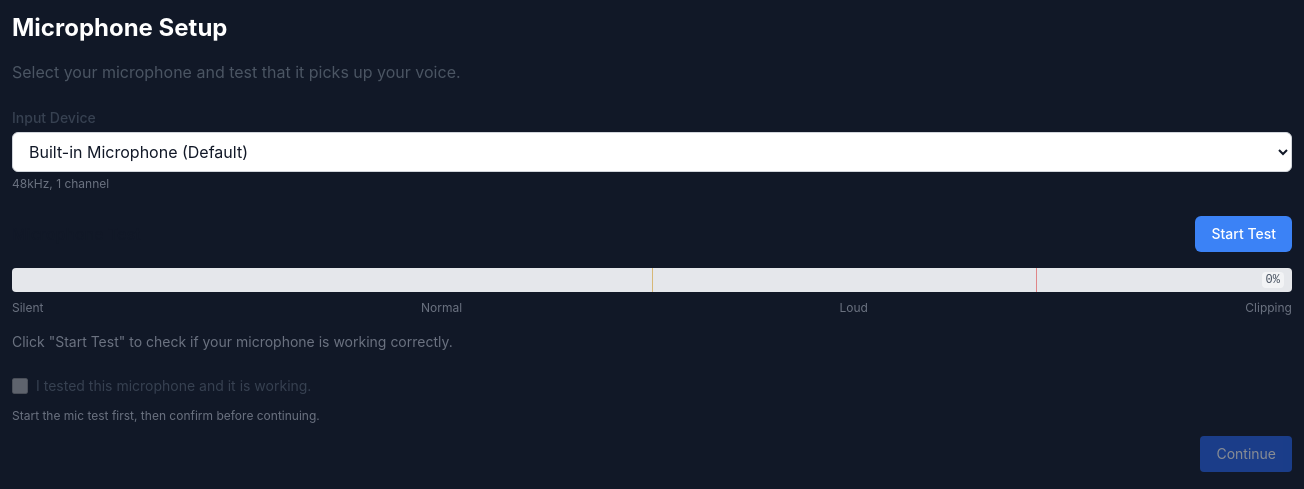
MicSetupStep › continue button is enabled only after test + confirmation
Expected: the button "Continue" is disabled, x1=1200 y1=436 x2=1292 y2=472
Expected: the checkbox is disabled, x1=12 y1=378 x2=28 y2=394
Step 1. Click the button "Start Test" → (1244, 234), box x1=1195 y1=216 x2=1292 y2=252
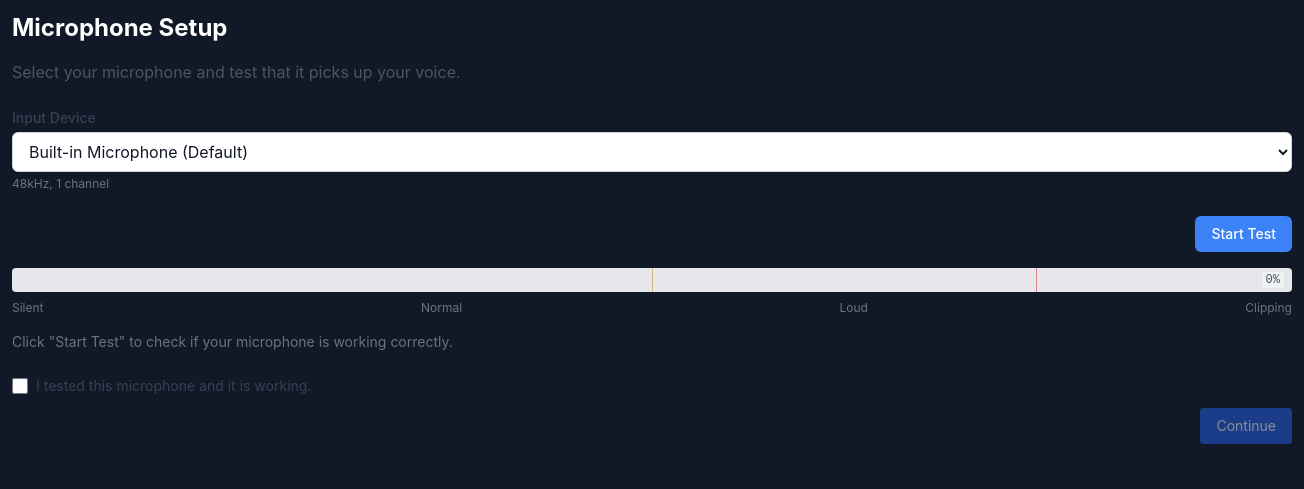
Expected: the button "Continue" is disabled, x1=1200 y1=408 x2=1292 y2=444
Expected: the checkbox is enabled
Step 2. Click the checkbox → (20, 386), box x1=12 y1=378 x2=28 y2=394
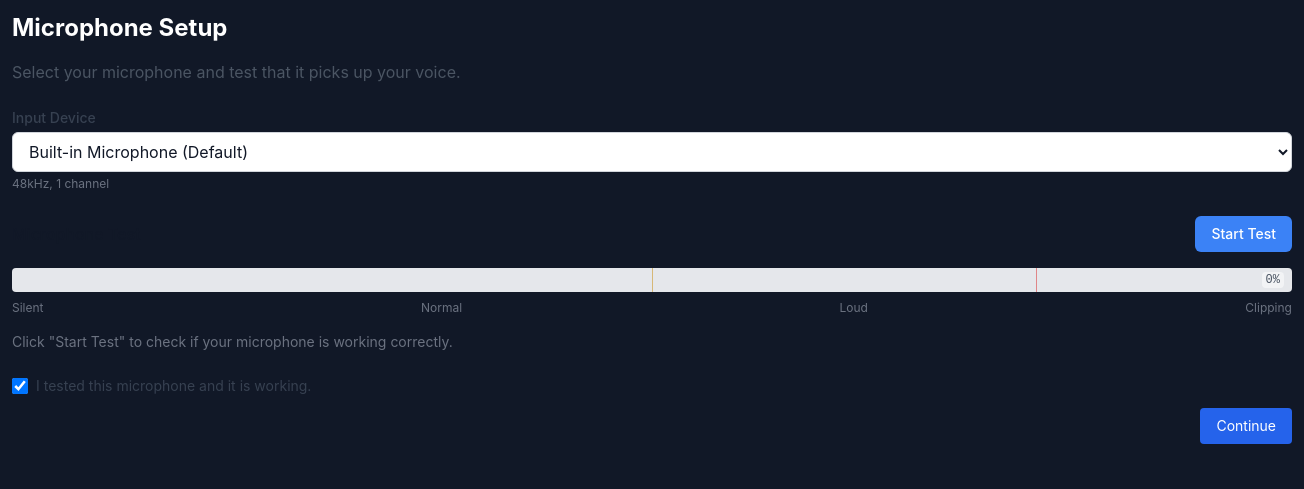
Expected: the button "Continue" is enabled, x1=1200 y1=408 x2=1292 y2=444
